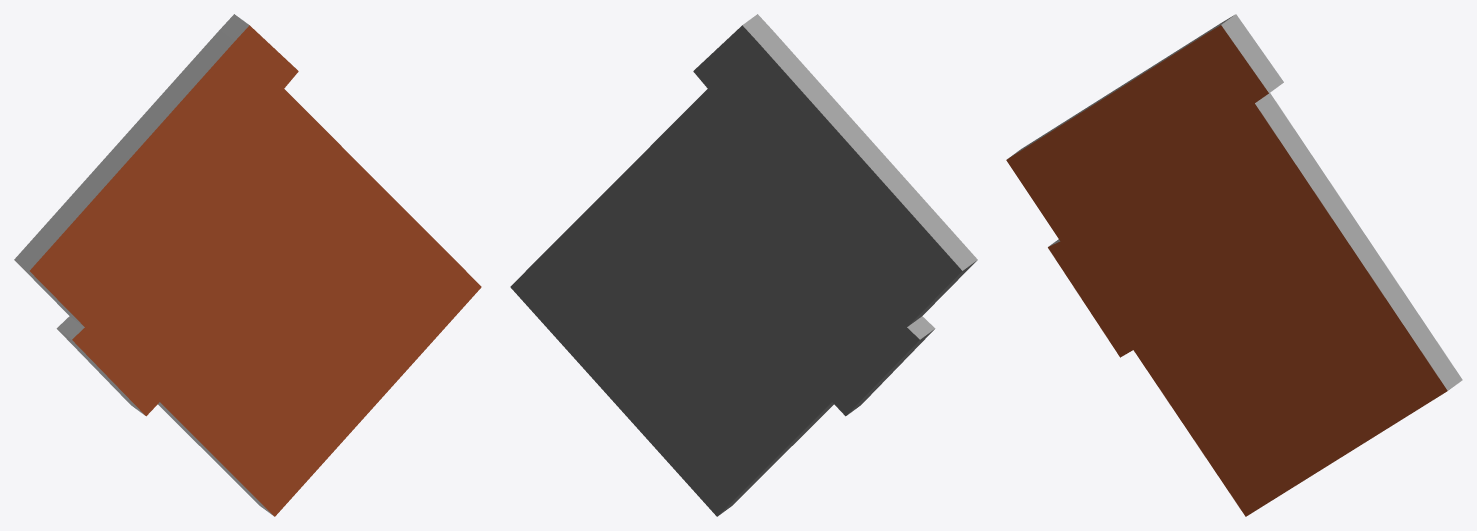
File: construction_0102_assumed_A_Grande_construcao_h6m.obj
3 renders of one model, left to right at view 1: azimuth 30°, elevation 25°; view 2: azimuth 150°, elevation 25°; view 3: azimuth 330°, elevation 25°, orthographic. The views are drawn at different scales.
Parts seen in each view (by area): view 1: construction_0102_assumed_A_Grande_construcao; view 2: construction_0102_assumed_A_Grande_construcao; view 3: construction_0102_assumed_A_Grande_construcao.
Part boxes in pixels (x1,y1,x2,y2): construction_0102_assumed_A_Grande_construcao: (14,14,481,516); construction_0102_assumed_A_Grande_construcao: (510,14,977,516); construction_0102_assumed_A_Grande_construcao: (1006,14,1462,516).
Bounding box in the file's own units: 102 × 107 × 6.
